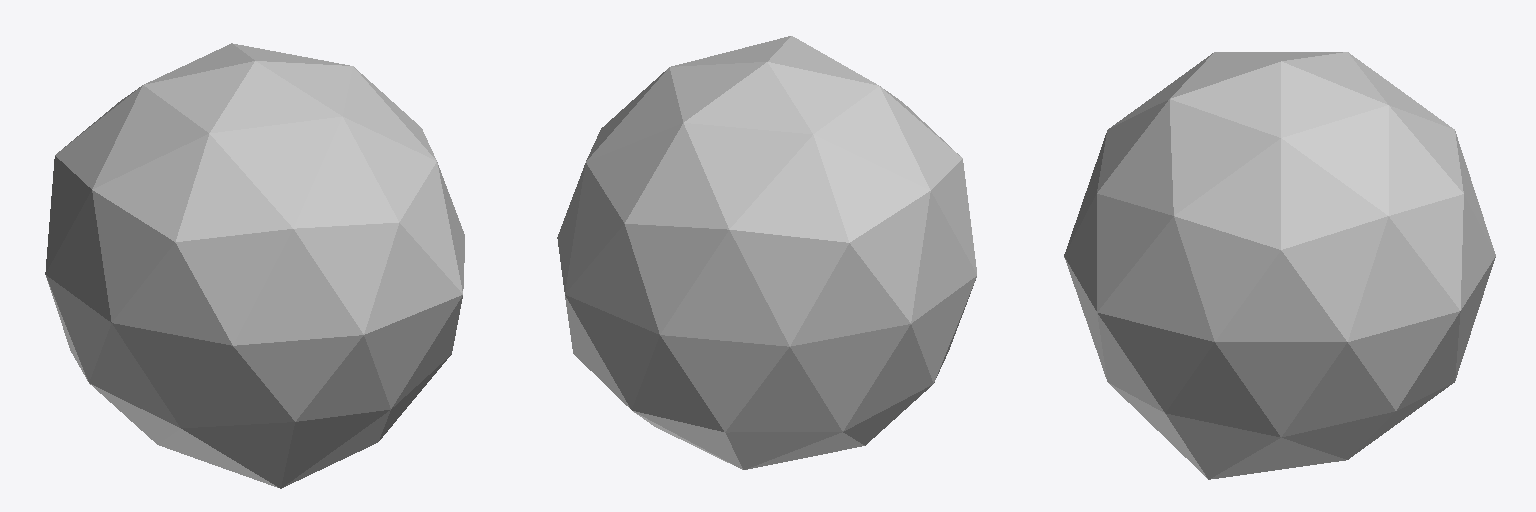
Rendered from rock.obj.
The picture shows the model from 3 angles: view 1: azimuth 30°, elevation 25°; view 2: azimuth 150°, elevation 25°; view 3: azimuth 270°, elevation 25°; orthographic projection.
Visible parts, largest first — view 1: Icosphere; view 2: Icosphere; view 3: Icosphere.
Boxes of the visible parts, <box> form: Icosphere: <box>45,43,464,488</box>; Icosphere: <box>557,36,976,469</box>; Icosphere: <box>1064,52,1495,479</box>.
Bounding box in the file's own units: 1.9 × 2 × 2.01.